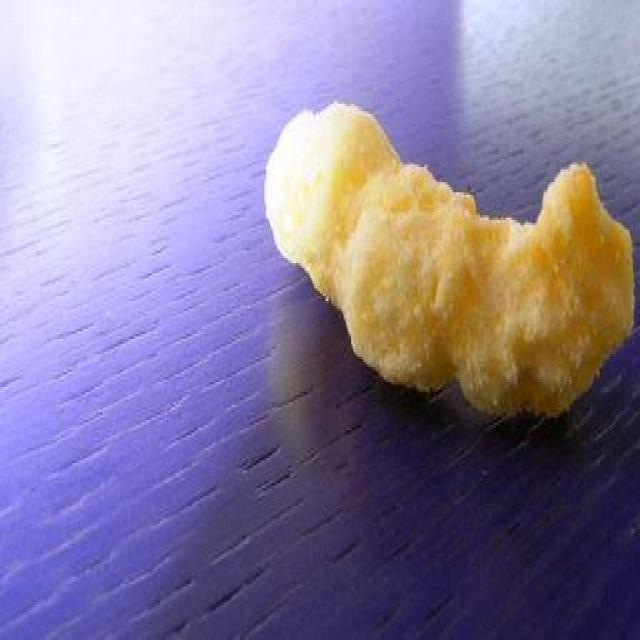Chips packaged: (257, 84, 640, 430)
